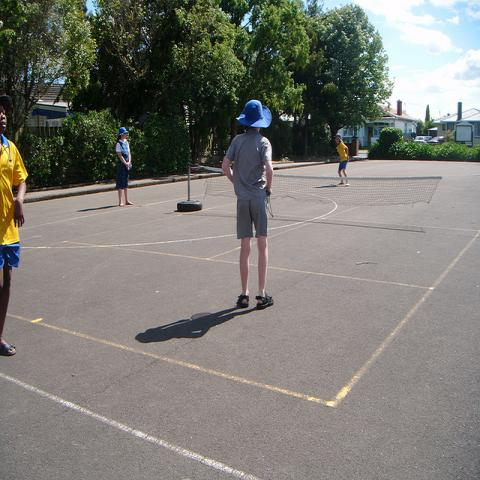car: (427, 136, 445, 145), (414, 136, 427, 143)
